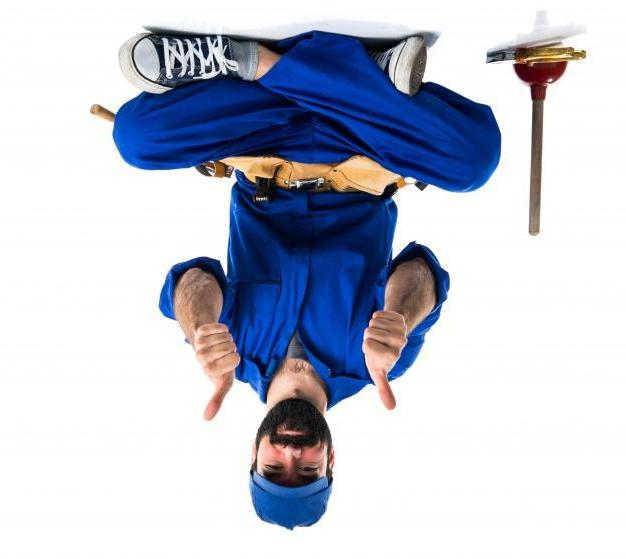thumbsdown: (194, 324, 241, 421), (362, 311, 408, 410)
